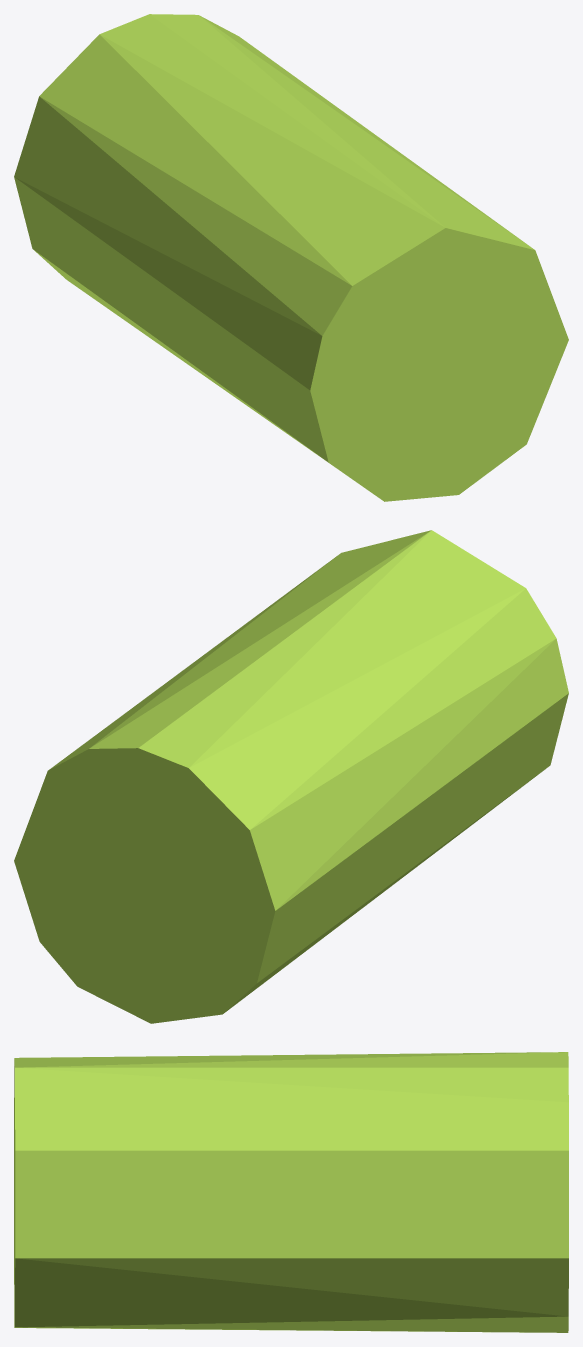
File: ur3_link_3_coll_2.dae
The picture shows the model from 3 angles, top to bottom: view 1: azimuth 30°, elevation 25°; view 2: azimuth 150°, elevation 25°; view 3: azimuth 270°, elevation 25°; orthographic projection. The views are drawn at different scales.
Visible parts, largest first — view 1: Node_000002223FC9BBD0; view 2: Node_000002223FC9BBD0; view 3: Node_000002223FC9BBD0.
Boxes of the visible parts, x1,y1,x2,y2 form: Node_000002223FC9BBD0: (14, 14, 568, 501); Node_000002223FC9BBD0: (14, 530, 568, 1023); Node_000002223FC9BBD0: (14, 1052, 568, 1332).
Size of the model in its own units: 0.0547 by 0.0545 by 0.1069.
